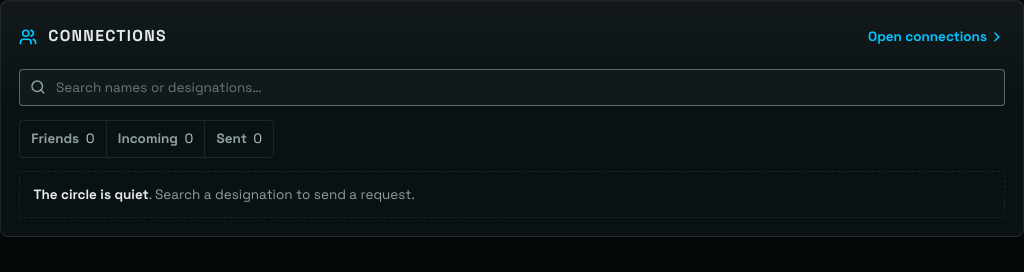
Test: ConnectionsHubCard › searches members from the hub without leaving the dashboard
This screenshot has width=1024, height=272.
Type "claw" into the search field named "Search members" at [512, 88], box [19,68,1005,106]
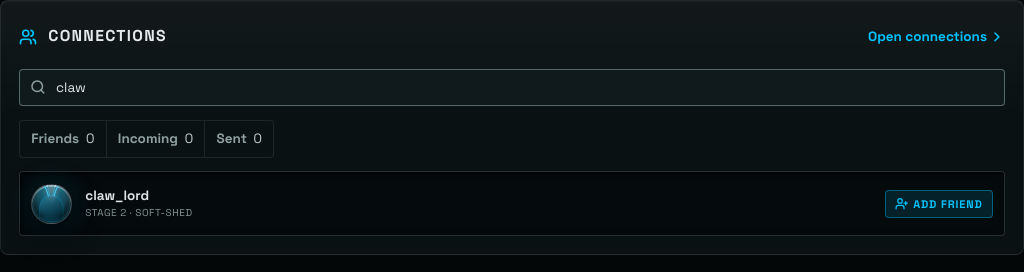
Now the link "claw_lord" is shown, box [85,188,149,204]
Now the button "Add Friend" is shown, box [885,190,993,218]
Now the text "The circle is quiet" is gone
